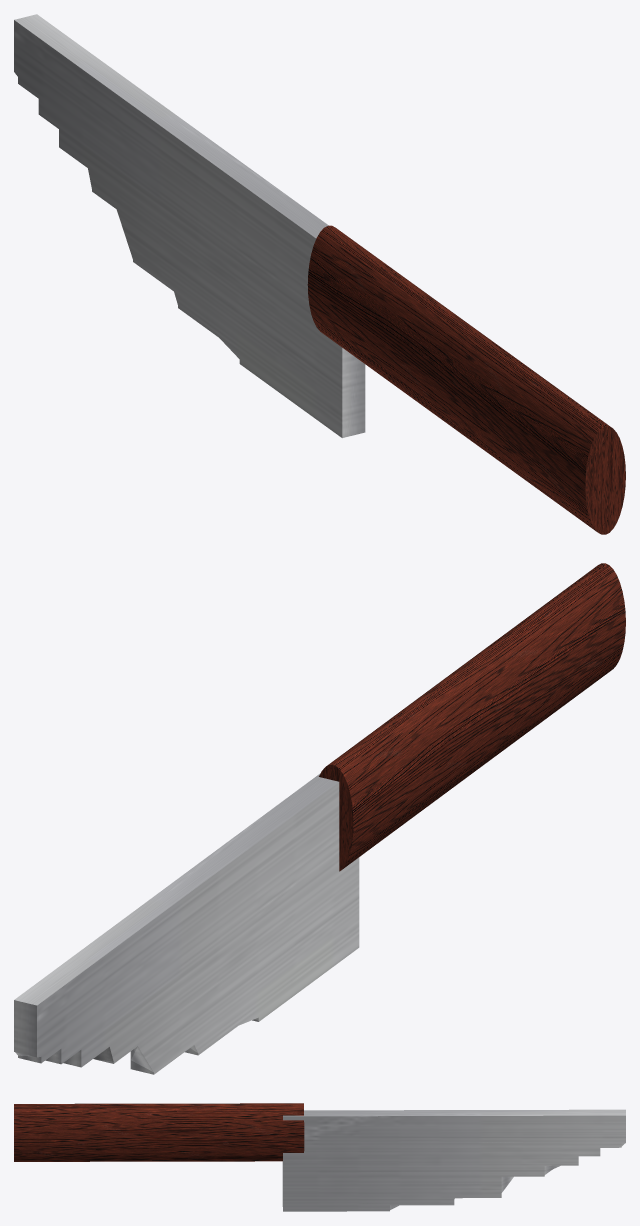
The model's file is knife.obj.
The picture shows the model from 3 angles, top to bottom: view 1: azimuth 30°, elevation 25°; view 2: azimuth 150°, elevation 25°; view 3: azimuth 270°, elevation 25°; orthographic projection. The views are drawn at different scales.
Visible parts, largest first — view 1: Cube_メッシュ, 円柱_メッシュ; view 2: Cube_メッシュ, 円柱_メッシュ; view 3: Cube_メッシュ, 円柱_メッシュ.
Part boxes in pixels (x1,y1,x2,y2): Cube_メッシュ: [14, 14, 365, 437]; 円柱_メッシュ: [307, 225, 625, 534]; Cube_メッシュ: [14, 773, 359, 1074]; 円柱_メッシュ: [319, 563, 625, 871]; Cube_メッシュ: [282, 1109, 625, 1211]; 円柱_メッシュ: [14, 1103, 304, 1161].
Bounding box in the file's own units: 0.4997 × 2.17 × 11.64.
2 materials, 2 textured.
